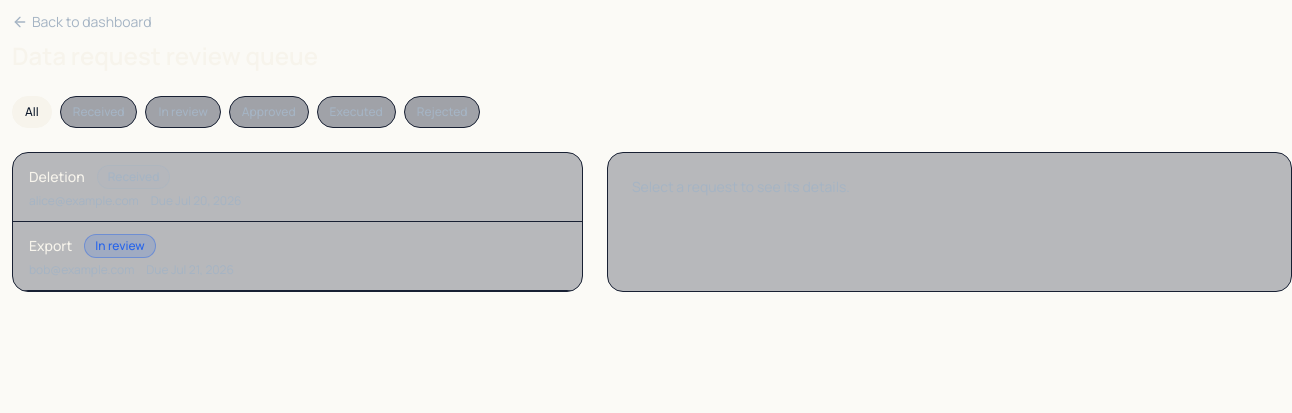
Test case: AdminDataRequestsPage › hides decision actions from an L1 admin
Click the button "Deletion Received alice@example.com Due Jul 20, 2026".
click(57, 176)  # box [13, 153, 582, 222]
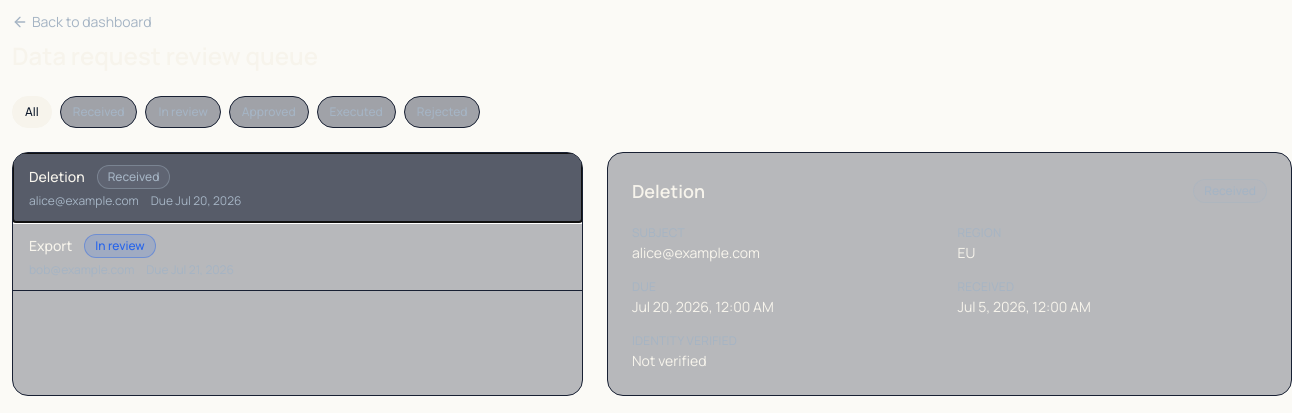
Now the text "EU" is shown, box [957, 243, 975, 262]
